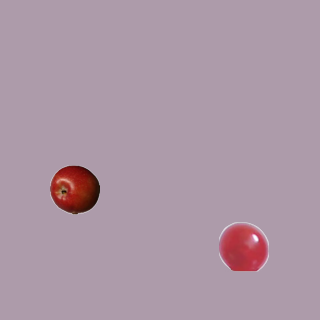Apple Braeburn: (49, 164, 99, 214)
Redcurrant: (218, 221, 268, 271)
